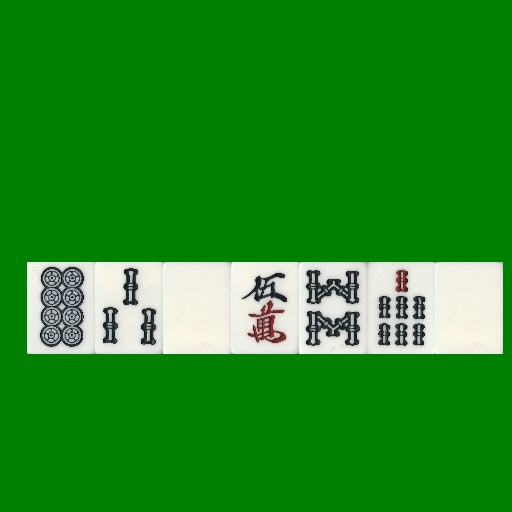3s: (95, 262, 163, 354)
5m: (231, 262, 299, 354)
7s: (367, 262, 435, 354)
8p: (27, 262, 95, 354)
8s: (299, 262, 367, 354)
white: (163, 262, 231, 354), (435, 262, 503, 354)
